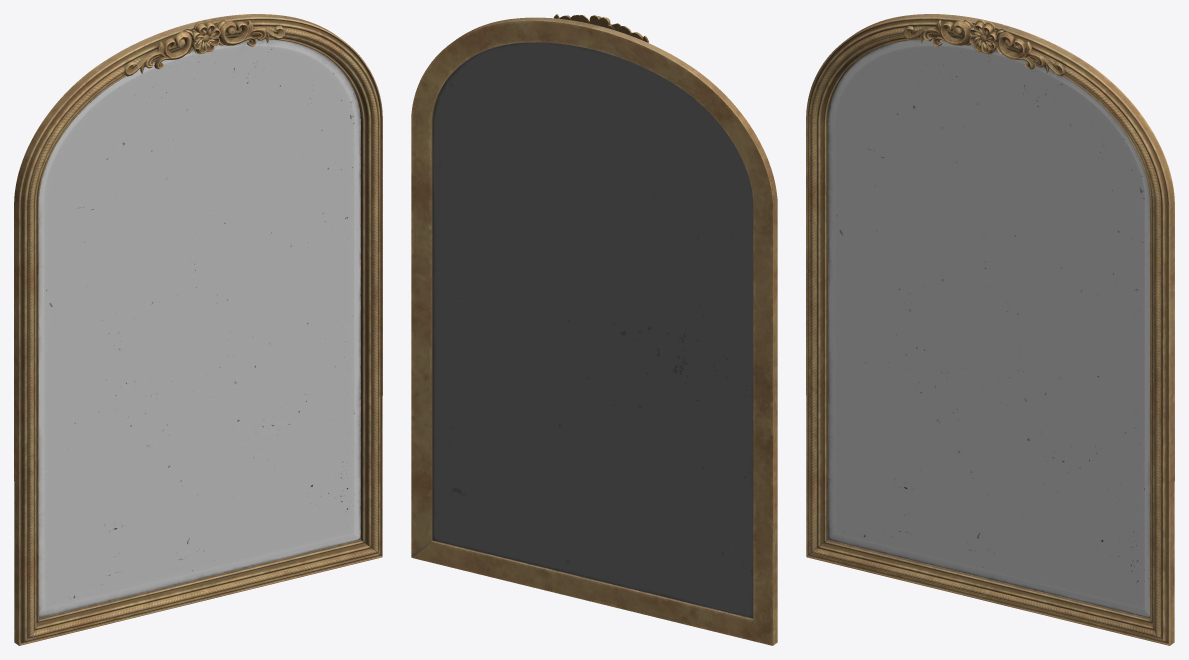
Rendered from ornate_mirror_01.glb.
3 renders of one model, left to right at view 1: azimuth 30°, elevation 25°; view 2: azimuth 150°, elevation 25°; view 3: azimuth 330°, elevation 25°, orthographic.
Parts seen in each view (by area): view 1: ornate_mirror_01; view 2: ornate_mirror_01; view 3: ornate_mirror_01.
Boxes of the visible parts, x1,y1,x2,y2 form: ornate_mirror_01: (14, 14, 382, 645); ornate_mirror_01: (411, 14, 777, 645); ornate_mirror_01: (806, 14, 1174, 645).
Size of the model in its own units: 0.4865 by 0.7442 by 0.026.
1 material, 1 textured.
